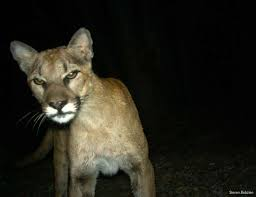Mountain Lion: (9, 32, 181, 196)
